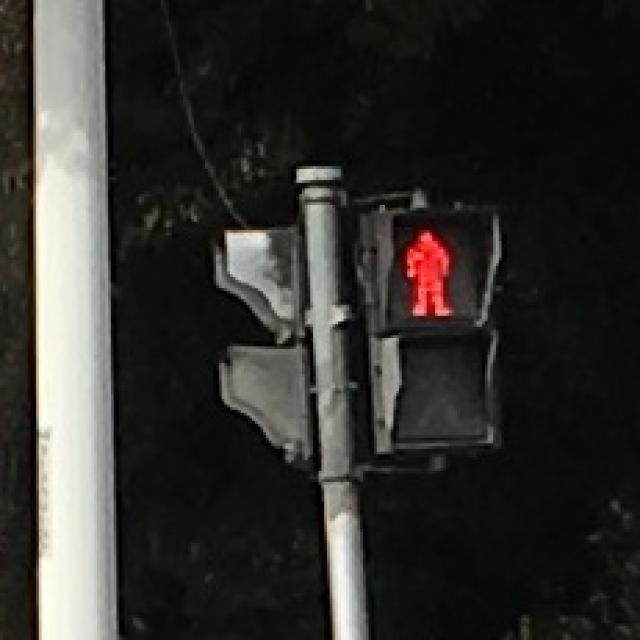red-crossing: (388, 218, 468, 322)
